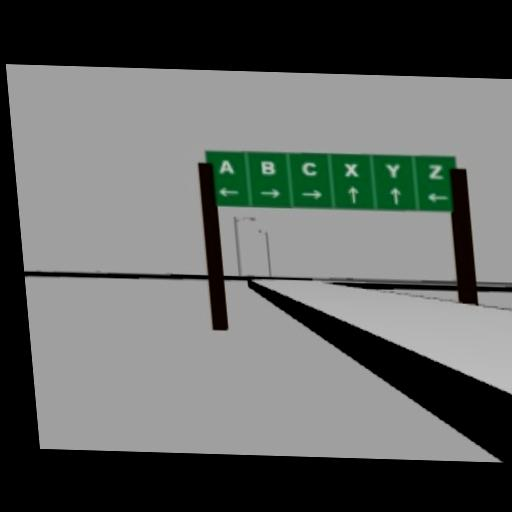A: (217, 158, 233, 173)
B: (259, 159, 275, 174)
C: (300, 160, 316, 175)
Left: (426, 191, 449, 202), (218, 185, 239, 196)
Right: (299, 187, 322, 198), (258, 186, 281, 197)
Straight: (344, 183, 358, 203), (387, 185, 401, 204)
X: (343, 162, 358, 176)
Y: (384, 161, 400, 177)
Z: (427, 163, 443, 178)
